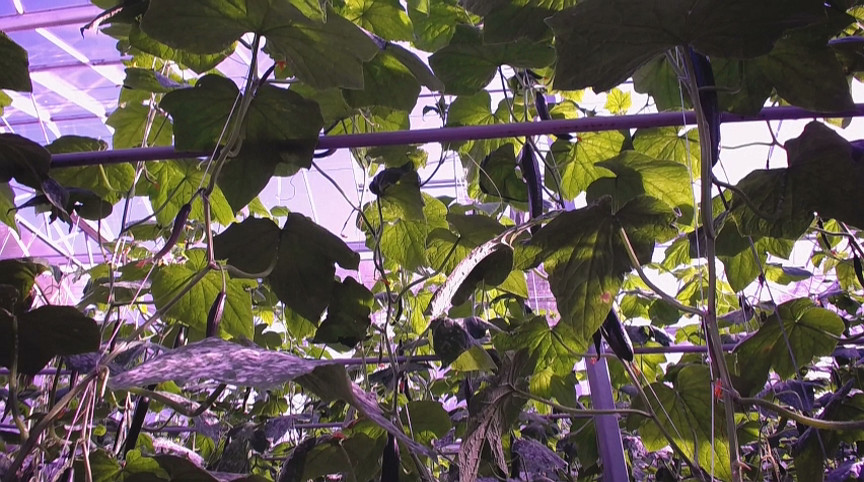cucumber: (691, 51, 721, 168), (523, 144, 543, 220), (607, 307, 635, 360), (208, 292, 229, 337), (383, 433, 400, 482)
